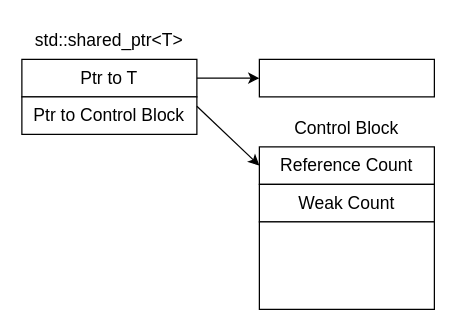
Image size: 456x331. Some labels were removed from this diagram. Each missing label, with the centre of its shape:
"Other Data (e.g., custome deleter, allocator, etc)" goes at pixel 346 265.
"T Object" goes at pixel 346 77.
